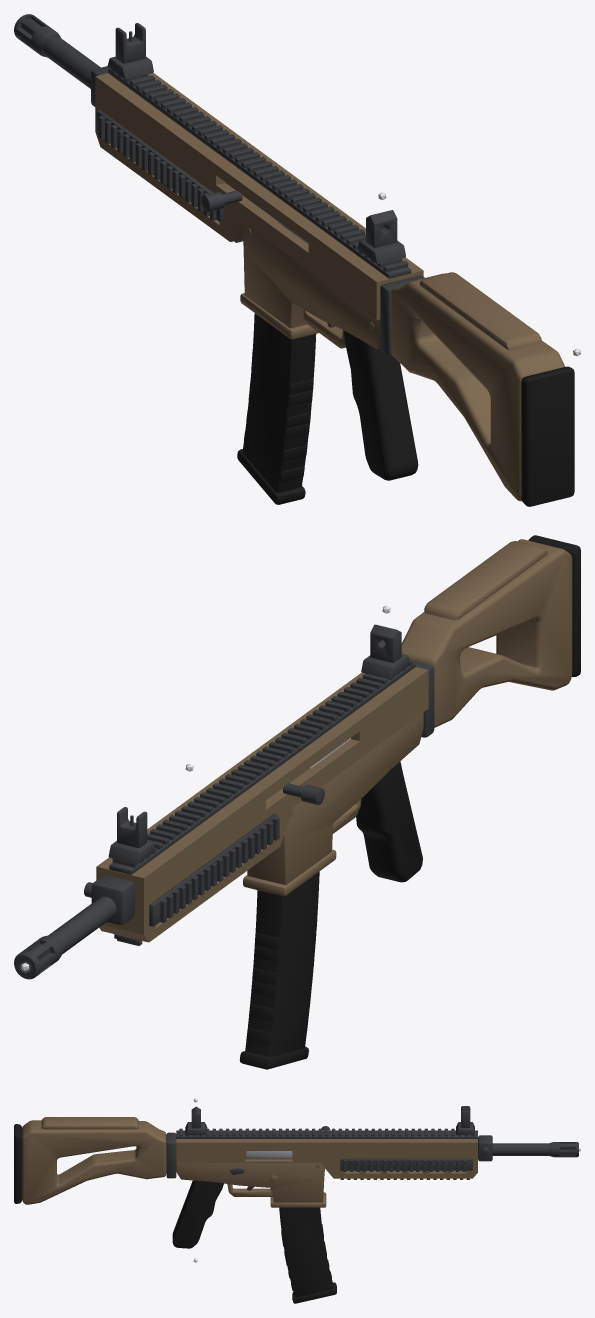
File: SCAR.glb
3 renders of one model, top to bottom at view 1: azimuth 30°, elevation 25°; view 2: azimuth 150°, elevation 25°; view 3: azimuth 270°, elevation 25°, orthographic. The views are drawn at different scales.
Visible parts, largest first — view 1: Stock, UpperReceiver, Rail, Magazine, LowerReceiver, ButtPad, Grip, Sights, Barrel, StockHinge; view 2: Stock, UpperReceiver, Rail, Magazine, LowerReceiver, Grip, Barrel, Sights, ButtPad, StockHinge; view 3: Stock, UpperReceiver, LowerReceiver, Rail, Magazine, Grip, Barrel, Sights, ButtPad, StockHinge, Bolt.
Boxes of the visible parts, bbox=[...] form: Stock: bbox=[391, 272, 564, 501]; UpperReceiver: bbox=[95, 73, 423, 319]; Rail: bbox=[96, 68, 411, 278]; Magazine: bbox=[237, 313, 316, 504]; LowerReceiver: bbox=[240, 224, 380, 348]; ButtPad: bbox=[521, 366, 574, 506]; Grip: bbox=[343, 330, 418, 480]; Sights: bbox=[107, 23, 405, 263]; Barrel: bbox=[14, 14, 109, 106]; StockHinge: bbox=[380, 275, 424, 355]; Stock: bbox=[401, 539, 572, 727]; UpperReceiver: bbox=[96, 667, 428, 942]; Rail: bbox=[109, 659, 415, 945]; Magazine: bbox=[239, 871, 319, 1069]; LowerReceiver: bbox=[243, 712, 423, 896]; Grip: bbox=[356, 761, 422, 882]; Barrel: bbox=[14, 875, 134, 979]; Sights: bbox=[108, 624, 410, 863]; ButtPad: bbox=[528, 535, 580, 676]; StockHinge: bbox=[413, 661, 434, 737]; Stock: bbox=[22, 1117, 166, 1204]; UpperReceiver: bbox=[176, 1130, 477, 1178]; LowerReceiver: bbox=[176, 1163, 326, 1207]; Rail: bbox=[176, 1128, 477, 1179]; Magazine: bbox=[279, 1207, 336, 1303]; Grip: bbox=[172, 1180, 223, 1248]; Barrel: bbox=[478, 1135, 578, 1161]; Sights: bbox=[185, 1106, 474, 1134]; ButtPad: bbox=[14, 1124, 21, 1203]; StockHinge: bbox=[166, 1132, 176, 1178]; Bolt: bbox=[246, 1151, 292, 1157].
Size of the model in its own units: 1.31 by 1.85 by 4.7.
